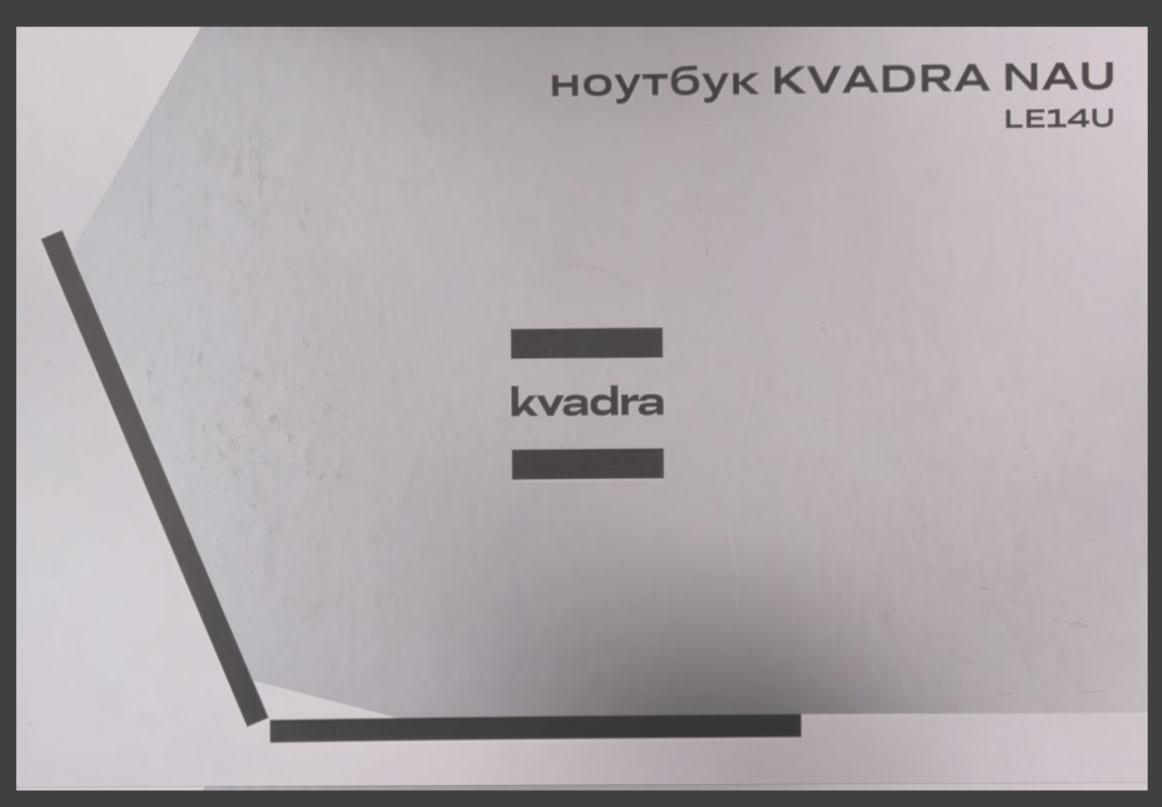laptop_top: (13, 16, 1154, 797)
